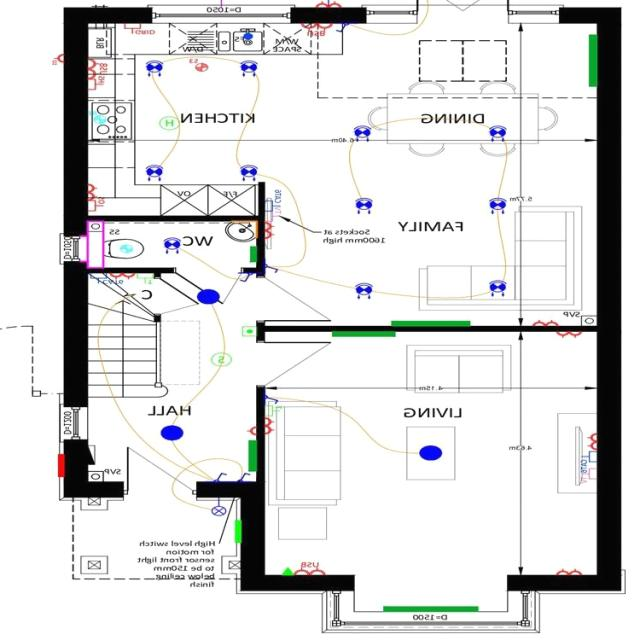BT Entry Point: (276, 564, 294, 577)
Cat 6 Data Socket: (87, 269, 108, 286), (262, 196, 284, 210), (576, 449, 599, 462)
Ceiling Mounted Continuous Extract Fan With Boost Mode Activated By Light Switch: (114, 239, 142, 255)
Ceiling Mounted Continuous Extract Fan With Local Boost Switch: (182, 55, 216, 76)
Co-Ax TV Socket: (578, 465, 596, 486), (261, 209, 287, 222)
Double Socket: (552, 562, 586, 576), (85, 180, 107, 201), (108, 271, 136, 285), (262, 219, 278, 241), (528, 316, 562, 326), (262, 416, 279, 435), (309, 0, 346, 8), (554, 328, 585, 337), (586, 428, 598, 451)
Electric Meter Box: (54, 450, 64, 486)
External Wall Light: (210, 496, 226, 523), (320, 0, 335, 8)
Gas Meter Box: (230, 515, 243, 551)
Grid Switch: (119, 22, 159, 37)
Hob Switch: (86, 78, 108, 90)
Light Switch: (205, 468, 228, 482), (232, 467, 254, 481), (264, 390, 283, 404), (264, 259, 280, 275), (336, 21, 352, 34), (238, 272, 254, 284)
Low Energy Downlighter: (481, 191, 512, 219), (349, 191, 376, 219), (350, 120, 377, 147), (484, 276, 511, 303), (157, 234, 184, 260), (139, 56, 166, 80), (234, 56, 261, 78), (237, 161, 260, 185), (486, 121, 509, 144), (351, 280, 376, 301), (142, 162, 164, 184)
Low Energy Pendant Light: (415, 439, 447, 464), (158, 421, 186, 443), (196, 286, 223, 305)
Mains Wired Smoke Detector: (206, 346, 238, 370)
Outside Socket: (50, 49, 63, 68)
Outside Tap: (205, 0, 239, 6)
Oven Switch: (86, 197, 108, 212)
Programmable Room Thermostat: (238, 321, 257, 340)
Radiator: (379, 600, 479, 614), (383, 316, 481, 326), (583, 27, 596, 94), (322, 328, 397, 338), (238, 438, 260, 470), (247, 240, 255, 267)
Recirculating Extractor Fan: (86, 104, 110, 134)
Single Socket: (242, 418, 258, 440)
Telephone Socket: (134, 269, 156, 286), (261, 404, 289, 416)
USB Double Socket: (85, 58, 112, 79), (298, 22, 334, 36), (295, 561, 325, 574)
Water Entry Position: (239, 28, 256, 42)
